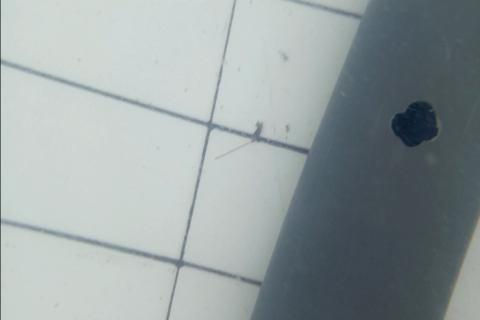kebocoran: (389, 97, 441, 150)
